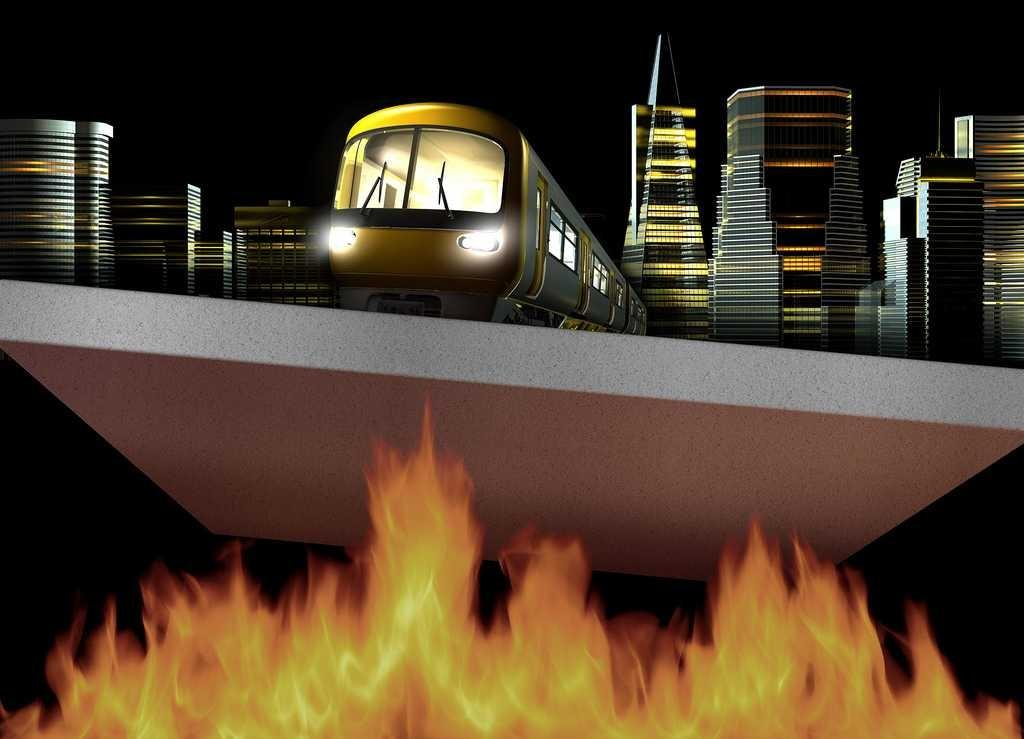fire: (80, 502, 998, 739)
